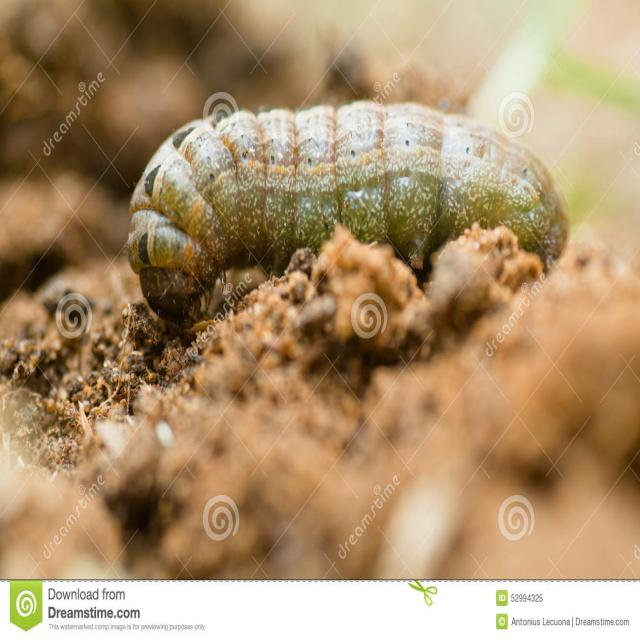Cutworm: (127, 105, 575, 340)
